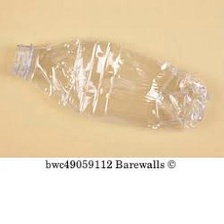bottle: (5, 34, 214, 137)
